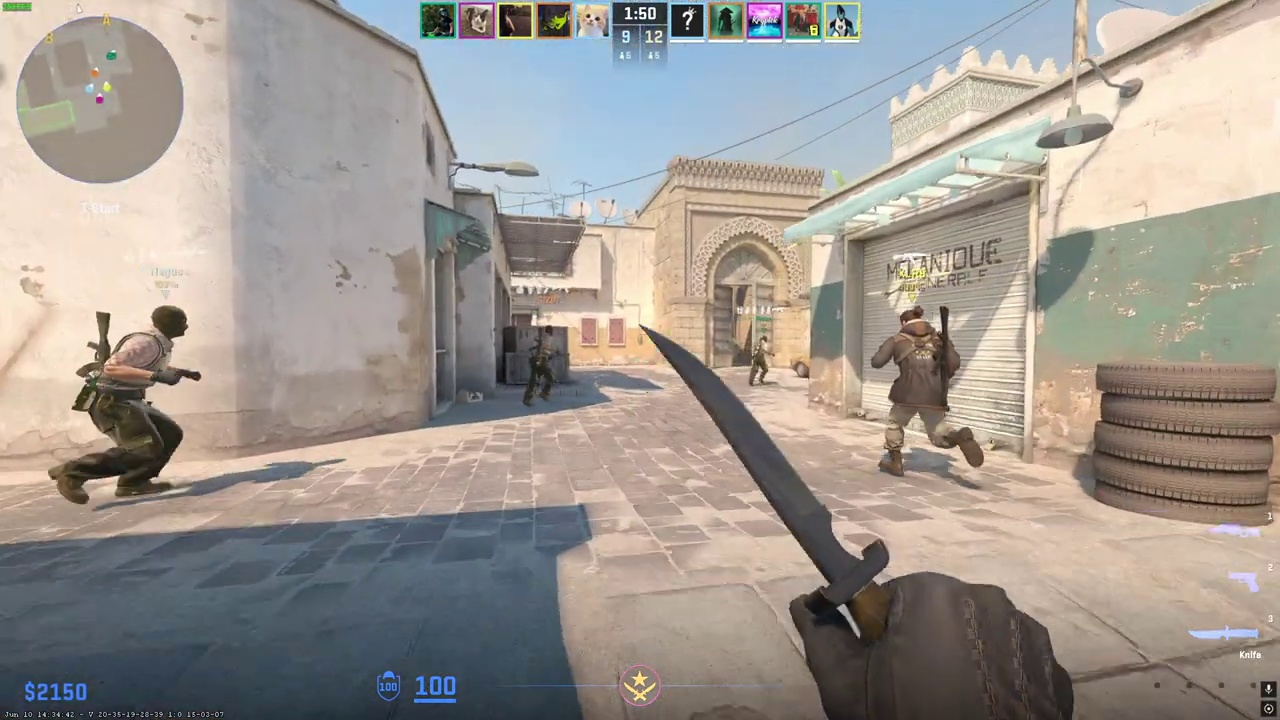Terrorist: (63, 305, 194, 505), (873, 305, 976, 477), (525, 325, 559, 408), (749, 335, 771, 386)
